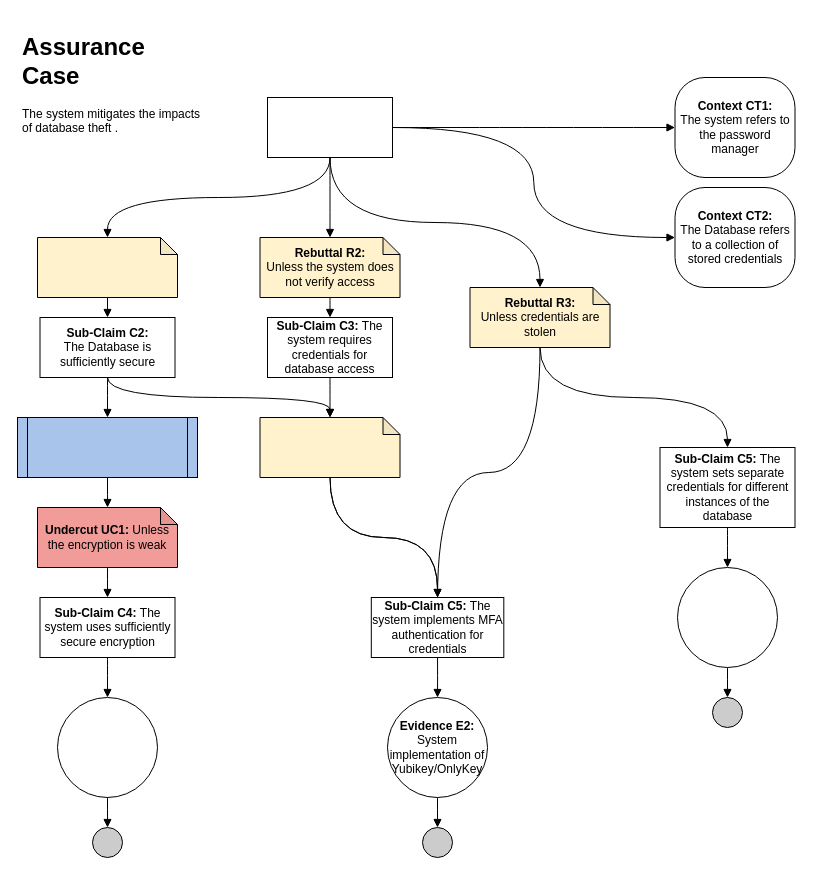
Some shapes in this 813 by 875 pixel diagram are drawn without their labels. The shapes that lost their labels are listed below. From the top down, each one's centre as x and y in pixels, then its label:
[329,127]: Top-Claim C1: The system mitigates the impacts of database theft
[107,267]: Rebuttal R1: Unless the database is not secure
[107,447]: Inference Rule IR1: The database is encrypted
[329,447]: Rebuttal R4: Unless the credentials are weak
[727,617]: Evidence E3: Assurance Case Credentials confidentiality
[107,747]: Evidence E1: Assurance Case Credentials confidentiality
